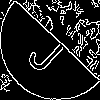J: (25, 25, 73, 77)
